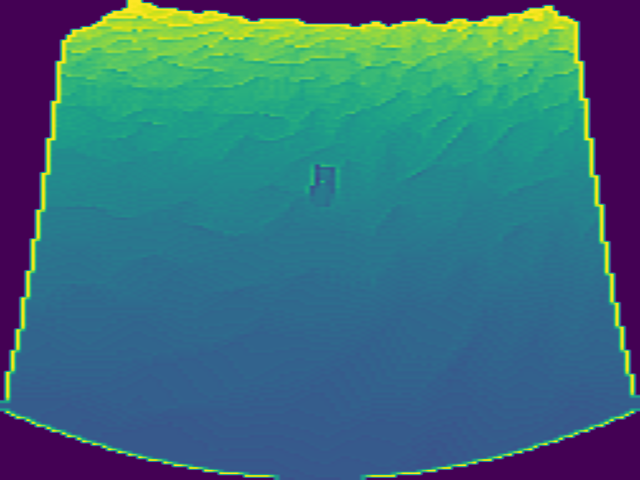car_0198: (307, 163, 337, 206)
